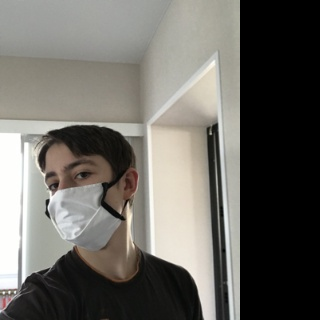with_mask: (44, 156, 124, 251)
